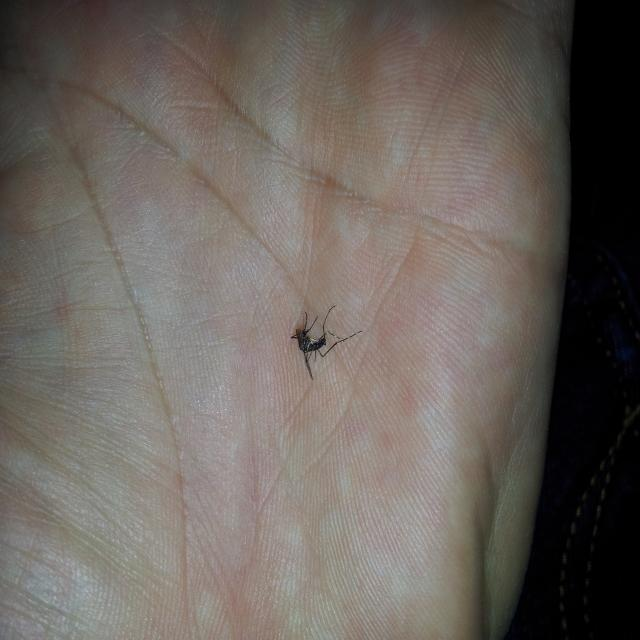albopictus: (285, 292, 364, 383)
